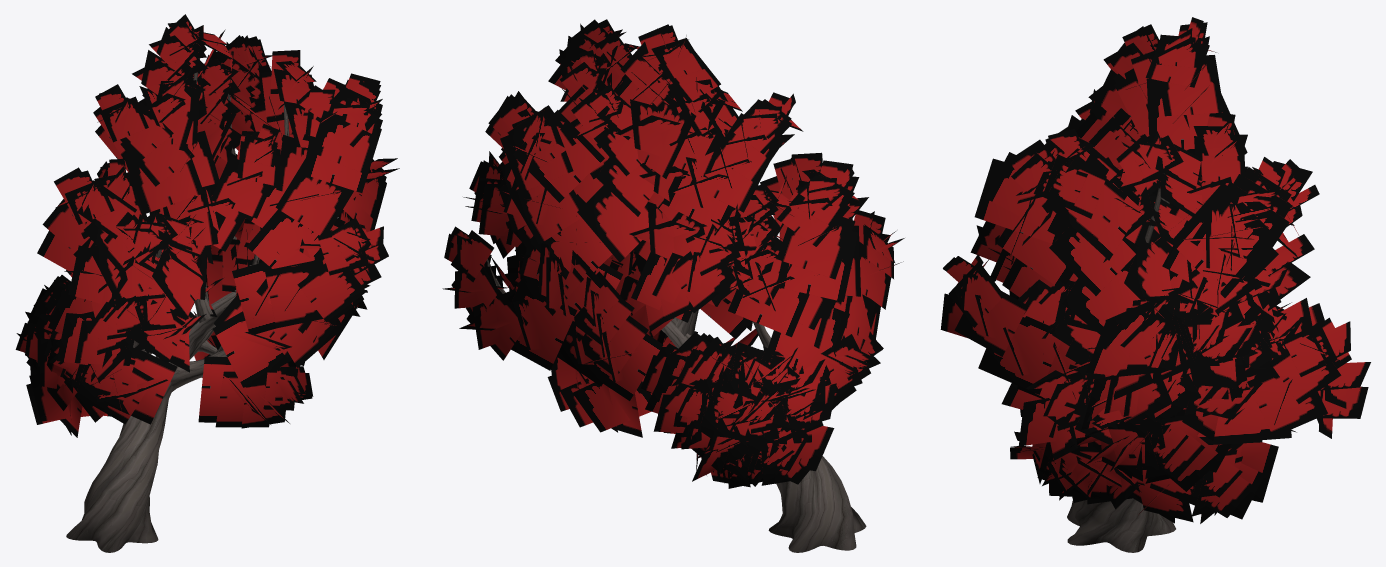
Rendered from TwistedTree_1.glb.
3 views of the same model, side by side, from view 1: azimuth 30°, elevation 25°; view 2: azimuth 150°, elevation 25°; view 3: azimuth 270°, elevation 25° (orthographic). The views are drawn at different scales.
Visible parts, largest first — view 1: TwistedTree_1; view 2: TwistedTree_1; view 3: TwistedTree_1.
Part boxes in pixels (x1=…): TwistedTree_1: x1=15, y1=14, x2=399, y2=552; TwistedTree_1: x1=442, y1=19, x2=904, y2=552; TwistedTree_1: x1=940, y1=17, x2=1370, y2=552.
Size of the model in its own units: 13.52 by 16.73 by 11.55.
Materials: 2 (2 with a texture image).
